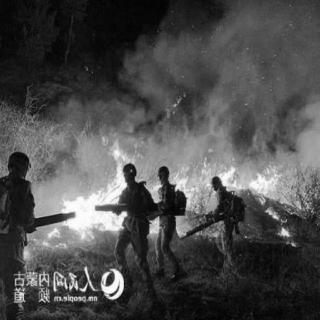Fire: (46, 152, 318, 244)
Smoke: (77, 7, 315, 180)
